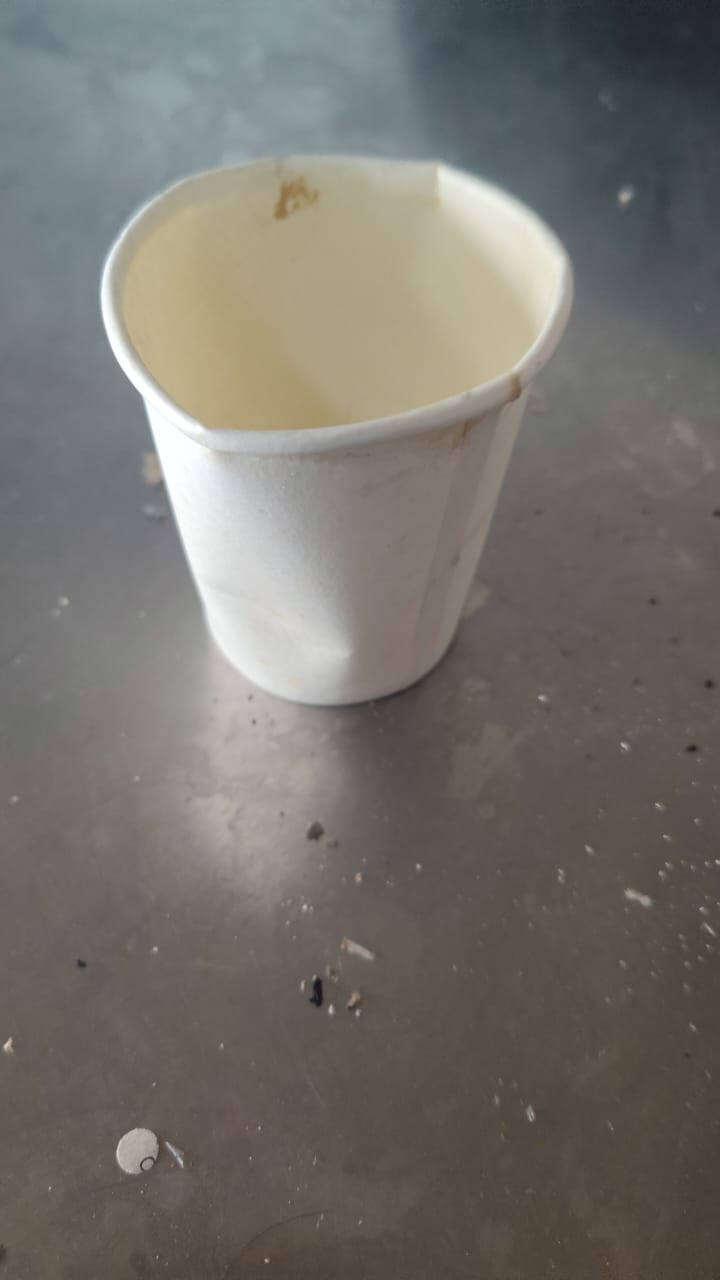Carton: (100, 157, 575, 705)
